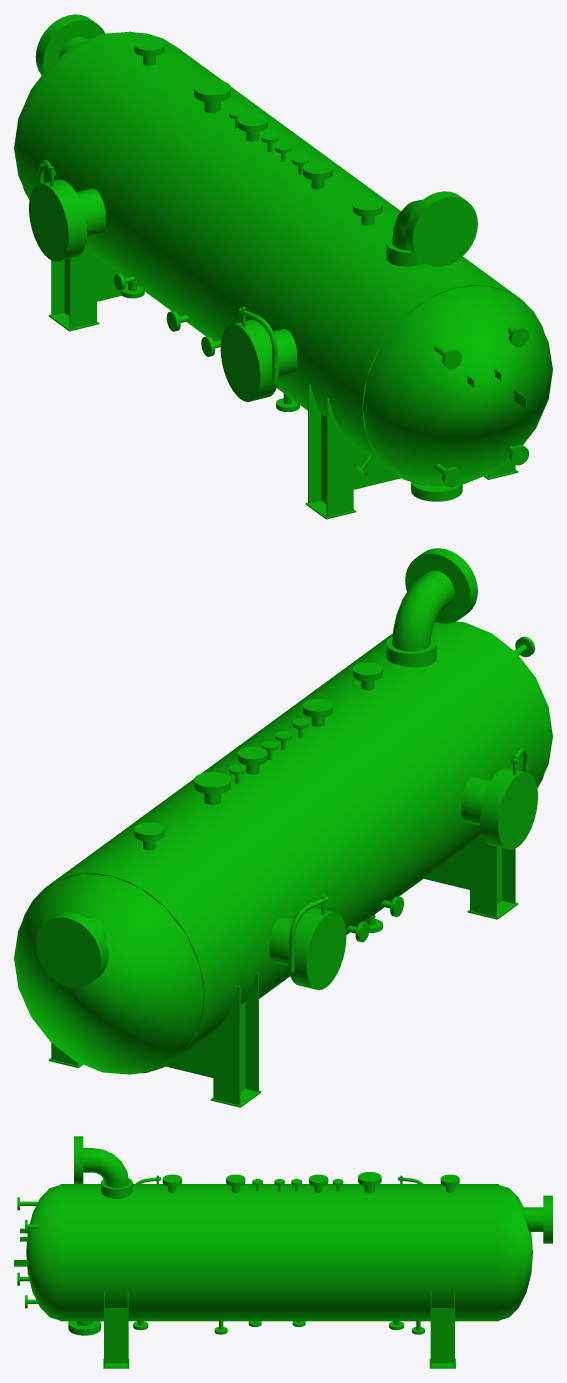
The picture shows the model from 3 angles, top to bottom: view 1: azimuth 30°, elevation 25°; view 2: azimuth 150°, elevation 25°; view 3: azimuth 270°, elevation 25°; orthographic projection. The views are drawn at different scales.
Parts seen in each view (by area): view 1: DISH 1 of SUBEQUIPMENT /20-VA50/PRIM, CYLINDER 3 of SUBEQUIPMENT /20-VA50/PRIM, CYLINDER 2 of SUBEQUIPMENT /20-VA50/PRIM, CYLINDER 4 of SUBEQUIPMENT /20-VA50/PRIM, /20-VA50/N2, CYLINDER 1 of SUBEQUIPMENT /20-VA50/NOZZ, CYLINDER 2 of SUBEQUIPMENT /20-VA50/NOZZ, BOX 3 of SUBEQUIPMENT /20-VA50/SLIDING-END, BOX 3 of SUBEQUIPMENT /20-VA50/FIXED-END, /20-VA50/N1, /20-VA50/M1, CYLINDER 5 of SUBEQUIPMENT /20-VA50/PRIM (+14 smaller); view 2: CYLINDER 3 of SUBEQUIPMENT /20-VA50/PRIM, CYLINDER 2 of SUBEQUIPMENT /20-VA50/PRIM, DISH 2 of SUBEQUIPMENT /20-VA50/PRIM, CYLINDER 4 of SUBEQUIPMENT /20-VA50/PRIM, /20-VA50/N1, /20-VA50/N2, CYLINDER 2 of SUBEQUIPMENT /20-VA50/NOZZ, CYLINDER 1 of SUBEQUIPMENT /20-VA50/NOZZ, CTORUS 1 of SUBEQUIPMENT /20-VA50/NOZZ, BOX 5 of SUBEQUIPMENT /20-VA50/FIXED-END, BOX 5 of SUBEQUIPMENT /20-VA50/SLIDING-END, /20-VA50/M2 (+10 smaller); view 3: CYLINDER 3 of SUBEQUIPMENT /20-VA50/PRIM, CYLINDER 2 of SUBEQUIPMENT /20-VA50/PRIM, CYLINDER 4 of SUBEQUIPMENT /20-VA50/PRIM, DISH 1 of SUBEQUIPMENT /20-VA50/PRIM, DISH 2 of SUBEQUIPMENT /20-VA50/PRIM, BOX 7 of SUBEQUIPMENT /20-VA50/SLIDING-END, BOX 7 of SUBEQUIPMENT /20-VA50/FIXED-END, CTORUS 1 of SUBEQUIPMENT /20-VA50/NOZZ, /20-VA50/N1, CYLINDER 5 of SUBEQUIPMENT /20-VA50/PRIM, /20-VA50/N2, CYLINDER 1 of SUBEQUIPMENT /20-VA50/PRIM (+3 smaller).
Part boxes in pixels (x1=…): DISH 1 of SUBEQUIPMENT /20-VA50/PRIM: x1=363, y1=285, x2=552, y2=486; CYLINDER 3 of SUBEQUIPMENT /20-VA50/PRIM: x1=134, y1=119, x2=400, y2=341; CYLINDER 2 of SUBEQUIPMENT /20-VA50/PRIM: x1=21, y1=35, x2=292, y2=302; CYLINDER 4 of SUBEQUIPMENT /20-VA50/PRIM: x1=247, y1=201, x2=516, y2=466; /20-VA50/N2: x1=405, y1=191, x2=477, y2=266; CYLINDER 1 of SUBEQUIPMENT /20-VA50/NOZZ: x1=29, y1=181, x2=77, y2=261; CYLINDER 2 of SUBEQUIPMENT /20-VA50/NOZZ: x1=220, y1=322, x2=268, y2=401; BOX 3 of SUBEQUIPMENT /20-VA50/SLIDING-END: x1=326, y1=398, x2=353, y2=517; BOX 3 of SUBEQUIPMENT /20-VA50/FIXED-END: x1=69, y1=245, x2=96, y2=328; /20-VA50/N1: x1=35, y1=14, x2=105, y2=75; /20-VA50/M1: x1=54, y1=179, x2=105, y2=258; CYLINDER 5 of SUBEQUIPMENT /20-VA50/PRIM: x1=358, y1=282, x2=544, y2=485; CYLINDER 3 of SUBEQUIPMENT /20-VA50/PRIM: x1=163, y1=706, x2=434, y2=934; CYLINDER 2 of SUBEQUIPMENT /20-VA50/PRIM: x1=51, y1=788, x2=321, y2=1055; DISH 2 of SUBEQUIPMENT /20-VA50/PRIM: x1=14, y1=873, x2=204, y2=1074; CYLINDER 4 of SUBEQUIPMENT /20-VA50/PRIM: x1=277, y1=623, x2=545, y2=890; /20-VA50/N1: x1=35, y1=912, x2=108, y2=987; /20-VA50/N2: x1=405, y1=548, x2=477, y2=623; CYLINDER 2 of SUBEQUIPMENT /20-VA50/NOZZ: x1=489, y1=770, x2=537, y2=849; CYLINDER 1 of SUBEQUIPMENT /20-VA50/NOZZ: x1=298, y1=910, x2=346, y2=990; CTORUS 1 of SUBEQUIPMENT /20-VA50/NOZZ: x1=392, y1=575, x2=447, y2=651; BOX 5 of SUBEQUIPMENT /20-VA50/FIXED-END: x1=213, y1=986, x2=240, y2=1105; BOX 5 of SUBEQUIPMENT /20-VA50/SLIDING-END: x1=470, y1=833, x2=497, y2=917; /20-VA50/M2: x1=461, y1=767, x2=512, y2=846; CYLINDER 3 of SUBEQUIPMENT /20-VA50/PRIM: x1=206, y1=1184, x2=350, y2=1321; CYLINDER 2 of SUBEQUIPMENT /20-VA50/PRIM: x1=350, y1=1184, x2=493, y2=1321; CYLINDER 4 of SUBEQUIPMENT /20-VA50/PRIM: x1=65, y1=1184, x2=206, y2=1321; DISH 1 of SUBEQUIPMENT /20-VA50/PRIM: x1=26, y1=1185, x2=60, y2=1320; DISH 2 of SUBEQUIPMENT /20-VA50/PRIM: x1=499, y1=1185, x2=532, y2=1320; BOX 7 of SUBEQUIPMENT /20-VA50/SLIDING-END: x1=105, y1=1308, x2=127, y2=1363; BOX 7 of SUBEQUIPMENT /20-VA50/FIXED-END: x1=431, y1=1308, x2=453, y2=1363; CTORUS 1 of SUBEQUIPMENT /20-VA50/NOZZ: x1=92, y1=1148, x2=129, y2=1187; /20-VA50/N1: x1=522, y1=1195, x2=552, y2=1243; CYLINDER 5 of SUBEQUIPMENT /20-VA50/PRIM: x1=60, y1=1184, x2=65, y2=1321; /20-VA50/N2: x1=74, y1=1136, x2=92, y2=1184; CYLINDER 1 of SUBEQUIPMENT /20-VA50/PRIM: x1=494, y1=1184, x2=498, y2=1321.
Size of the model in its own units: 3.54 by 4.54 by 11.06.
